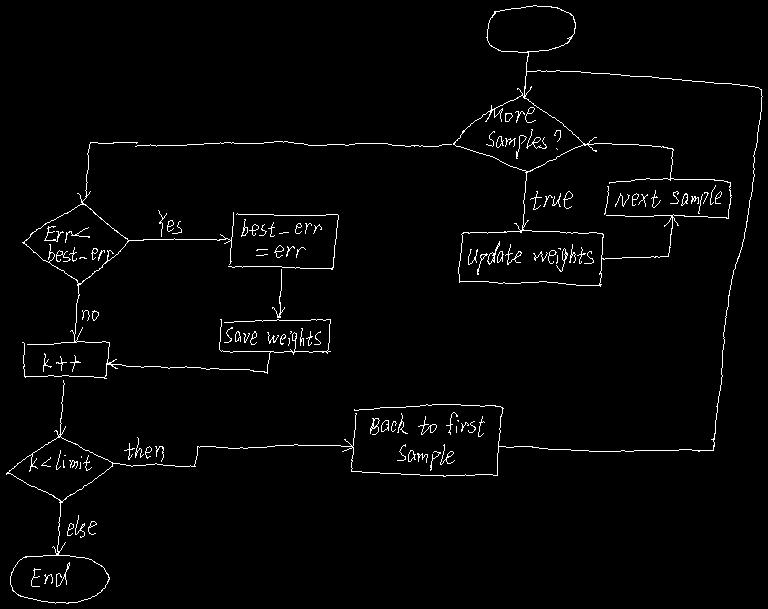arrow: (498, 70, 762, 451), (77, 141, 451, 203), (113, 439, 353, 466), (584, 137, 673, 180), (106, 351, 270, 373), (602, 215, 678, 259), (129, 234, 230, 243), (514, 172, 528, 232), (70, 283, 82, 342), (52, 501, 65, 555), (517, 51, 531, 98), (54, 380, 65, 437), (272, 269, 284, 317)
decision: (453, 95, 585, 172), (22, 203, 129, 285), (6, 436, 112, 502)
process: (351, 404, 503, 476), (458, 230, 603, 286), (228, 212, 338, 269), (604, 178, 731, 218), (219, 319, 330, 353), (22, 341, 109, 378)
terminator: (10, 554, 109, 603), (486, 5, 575, 52)
text: (370, 412, 484, 470), (468, 241, 593, 274), (485, 105, 560, 158), (241, 219, 321, 257), (615, 185, 721, 213), (224, 327, 320, 354), (44, 226, 113, 261), (29, 450, 91, 471), (124, 437, 163, 461), (31, 562, 69, 586), (530, 191, 572, 209), (43, 353, 80, 371), (67, 515, 96, 537), (158, 210, 181, 236), (82, 310, 98, 320)
